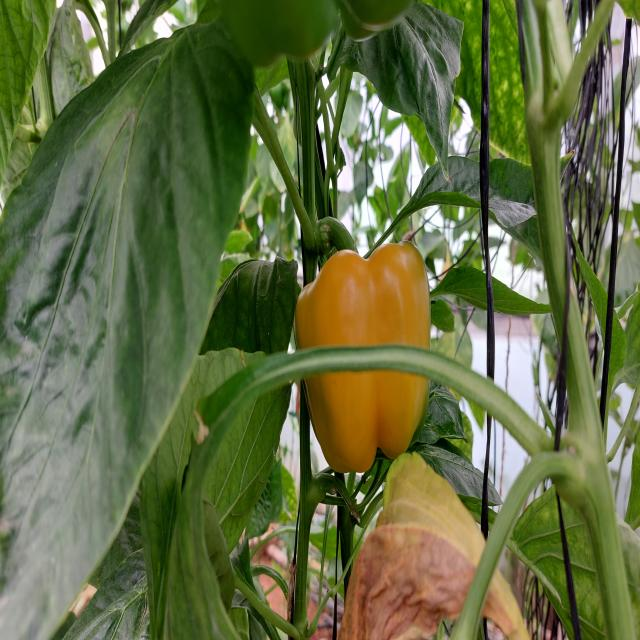Yellow-Ready-to-Harvest: (294, 240, 433, 474)
